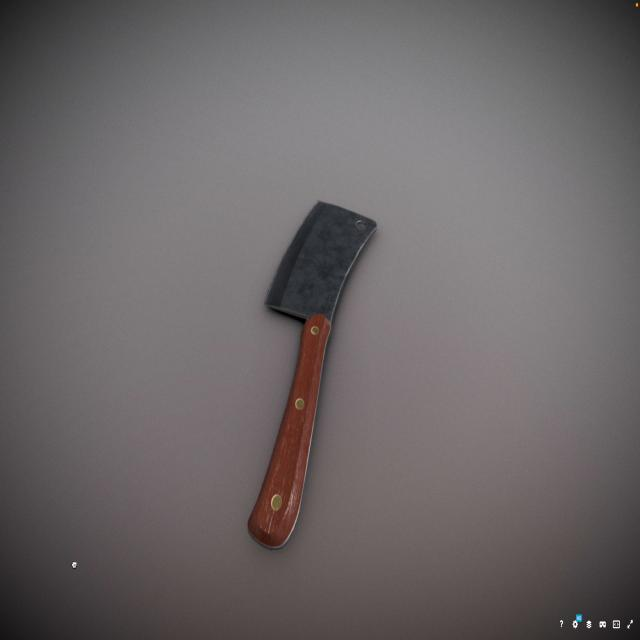cleaver: (227, 198, 378, 555)
